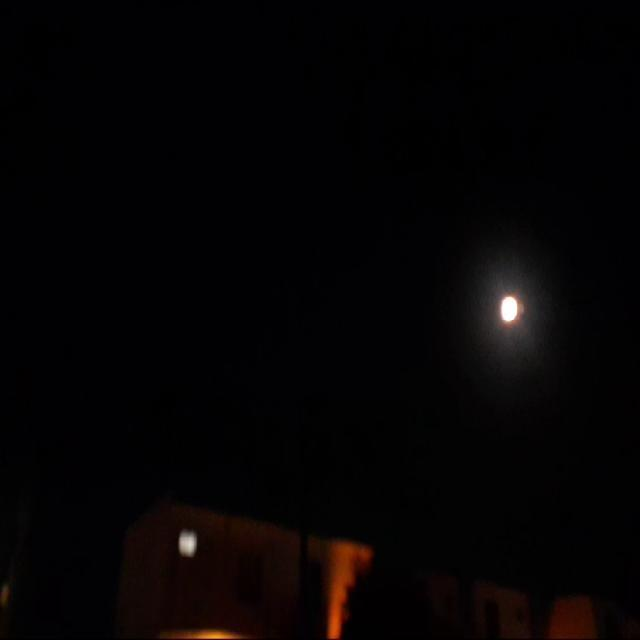moon: (497, 293, 520, 327)
